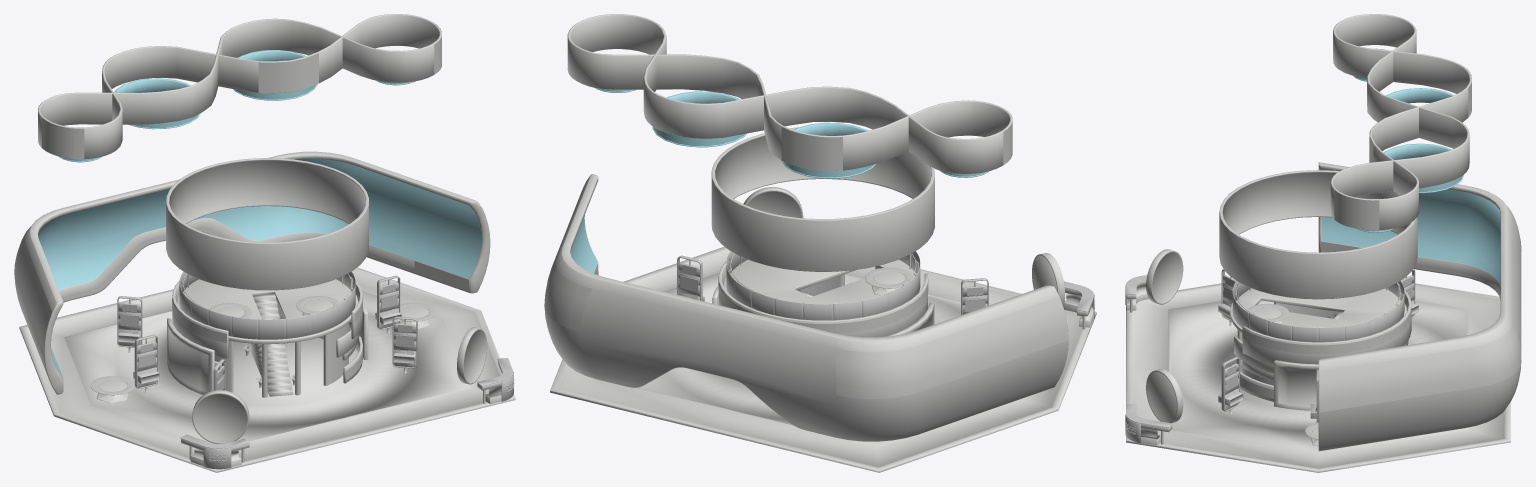
File: SM_Primeumbooth_C.fbx
3 views of the same model, side by side, from view 1: azimuth 30°, elevation 25°; view 2: azimuth 150°, elevation 25°; view 3: azimuth 270°, elevation 25° (orthographic). The views are drawn at different scales.
Visible parts, largest first — view 1: MeshBody7, MeshBody9, MeshBody15, MeshBody2, MeshBody4, MeshBody6, MeshBody12, MeshBody3, MeshBody11; view 2: MeshBody7, MeshBody15, MeshBody11, MeshBody12, MeshBody3, MeshBody5, MeshBody9; view 3: MeshBody7, MeshBody9, MeshBody15, MeshBody11, MeshBody2, MeshBody12, MeshBody5.
Boxes of the visible parts, x1,y1,x2,y2 form: MeshBody7: (14, 14, 515, 472); MeshBody9: (38, 159, 481, 376); MeshBody15: (90, 271, 513, 469); MeshBody2: (392, 316, 417, 373); MeshBody4: (117, 296, 142, 352); MeshBody6: (133, 334, 159, 392); MeshBody12: (114, 78, 200, 129); MeshBody3: (375, 275, 401, 333); MeshBody11: (233, 50, 317, 100); MeshBody7: (544, 14, 1096, 472); MeshBody15: (726, 218, 1094, 320); MeshBody11: (652, 91, 746, 147); MeshBody12: (781, 122, 875, 178); MeshBody3: (677, 255, 704, 301); MeshBody5: (961, 278, 988, 314); MeshBody9: (570, 216, 597, 273); MeshBody7: (1126, 14, 1521, 472); MeshBody9: (1321, 169, 1500, 286); MeshBody15: (1125, 275, 1404, 443); MeshBody11: (1384, 143, 1463, 193); MeshBody2: (1218, 357, 1243, 414); MeshBody12: (1386, 88, 1462, 122); MeshBody5: (1218, 269, 1235, 325).
Bounding box in the file's own units: 2090 × 1215 × 1646.
